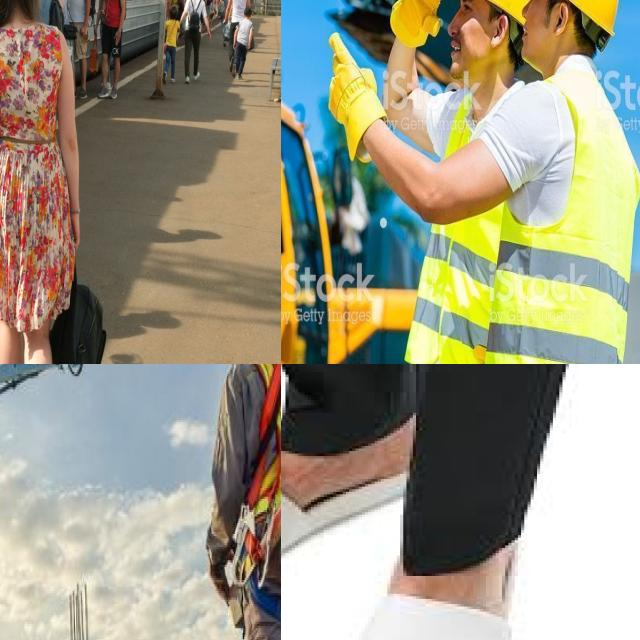No_Ear-Protection: (491, 12, 509, 50), (553, 0, 569, 37)
No_Glasses: (452, 0, 482, 29), (523, 0, 546, 19)
Sandals: (334, 497, 515, 640)
face_nomask: (447, 0, 498, 83), (522, 0, 569, 71)
hand_glove: (328, 28, 388, 164), (389, 0, 442, 48)
head_helmet: (519, 0, 625, 37)
person: (491, 0, 635, 364), (426, 0, 522, 364), (199, 364, 281, 640)
vest: (509, 71, 632, 364), (407, 86, 487, 364), (221, 364, 281, 562)
